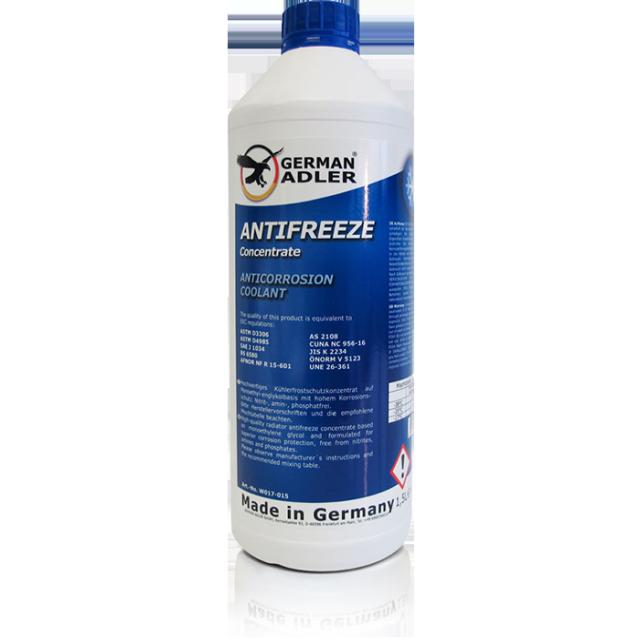coolant: (212, 1, 428, 578)
